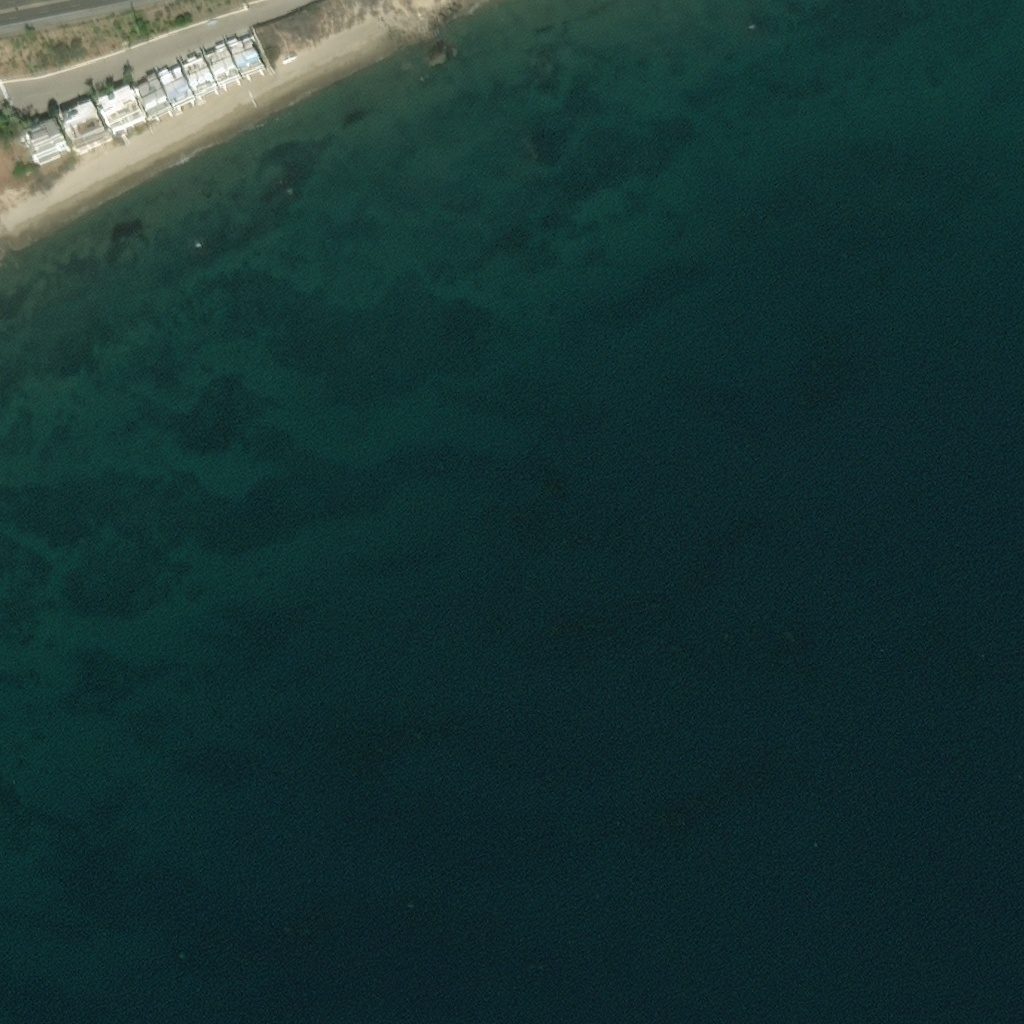0 no-damage: (96, 89, 146, 133), (24, 123, 72, 166), (59, 106, 106, 149), (203, 44, 240, 86), (225, 39, 265, 75), (134, 75, 168, 116), (181, 58, 216, 96), (157, 71, 193, 106)
